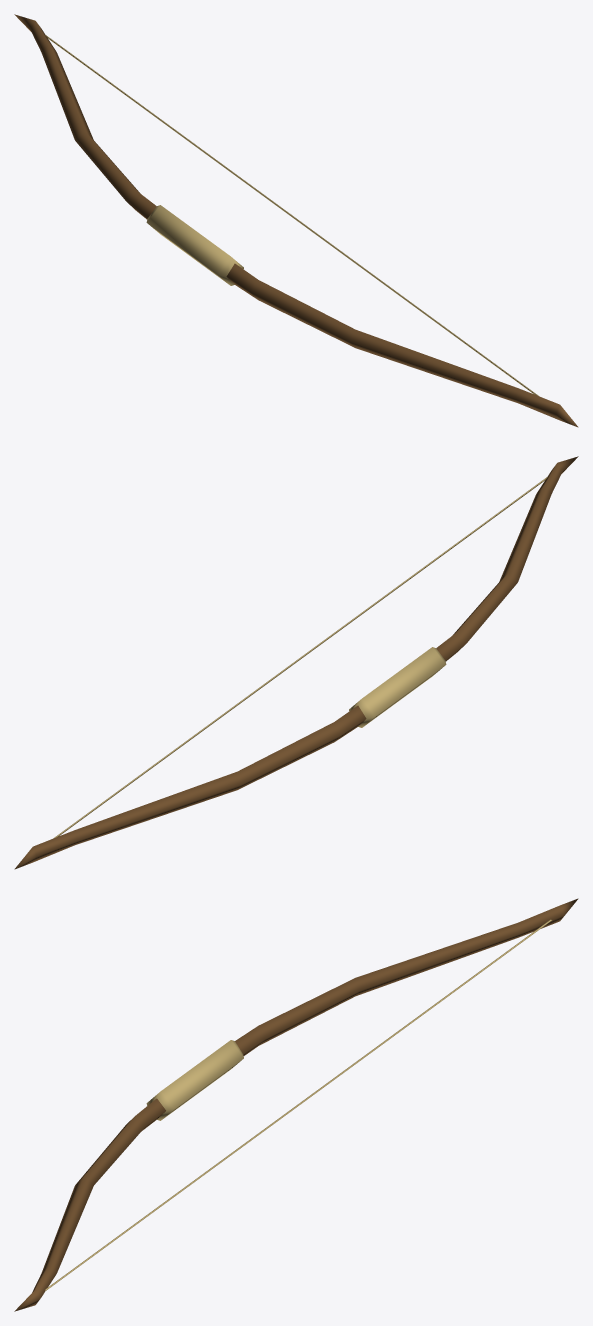
The model's file is obj_bow_LOW.FBX.
The picture shows the model from 3 angles, top to bottom: view 1: azimuth 30°, elevation 25°; view 2: azimuth 150°, elevation 25°; view 3: azimuth 330°, elevation 25°; orthographic projection.
Visible parts, largest first — view 1: obj_bow_LOW; view 2: obj_bow_LOW; view 3: obj_bow_LOW.
Boxes of the visible parts, x1,y1,x2,y2 form: obj_bow_LOW: [14, 14, 578, 427]; obj_bow_LOW: [14, 456, 578, 869]; obj_bow_LOW: [14, 898, 578, 1311].
Size of the model in its own units: 0.665 by 0.1564 by 5.41.
